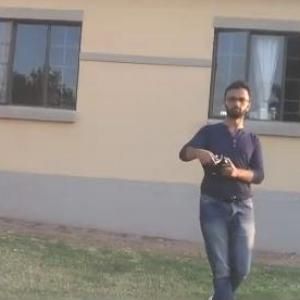follow: (174, 69, 272, 299)
